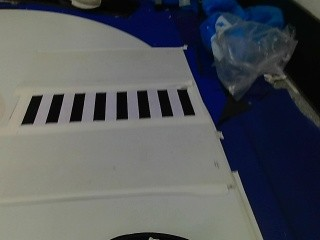crosswalk: (17, 85, 196, 124)
